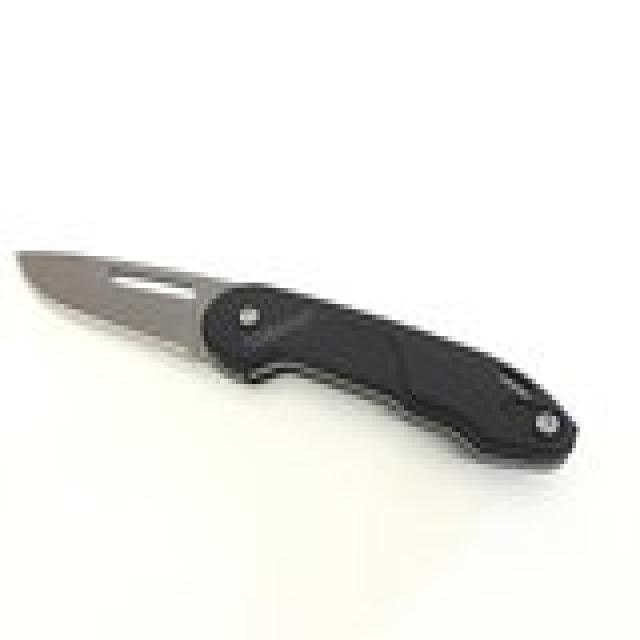Knife: (9, 223, 594, 492)
